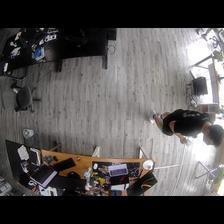normal: (147, 107, 223, 147)
